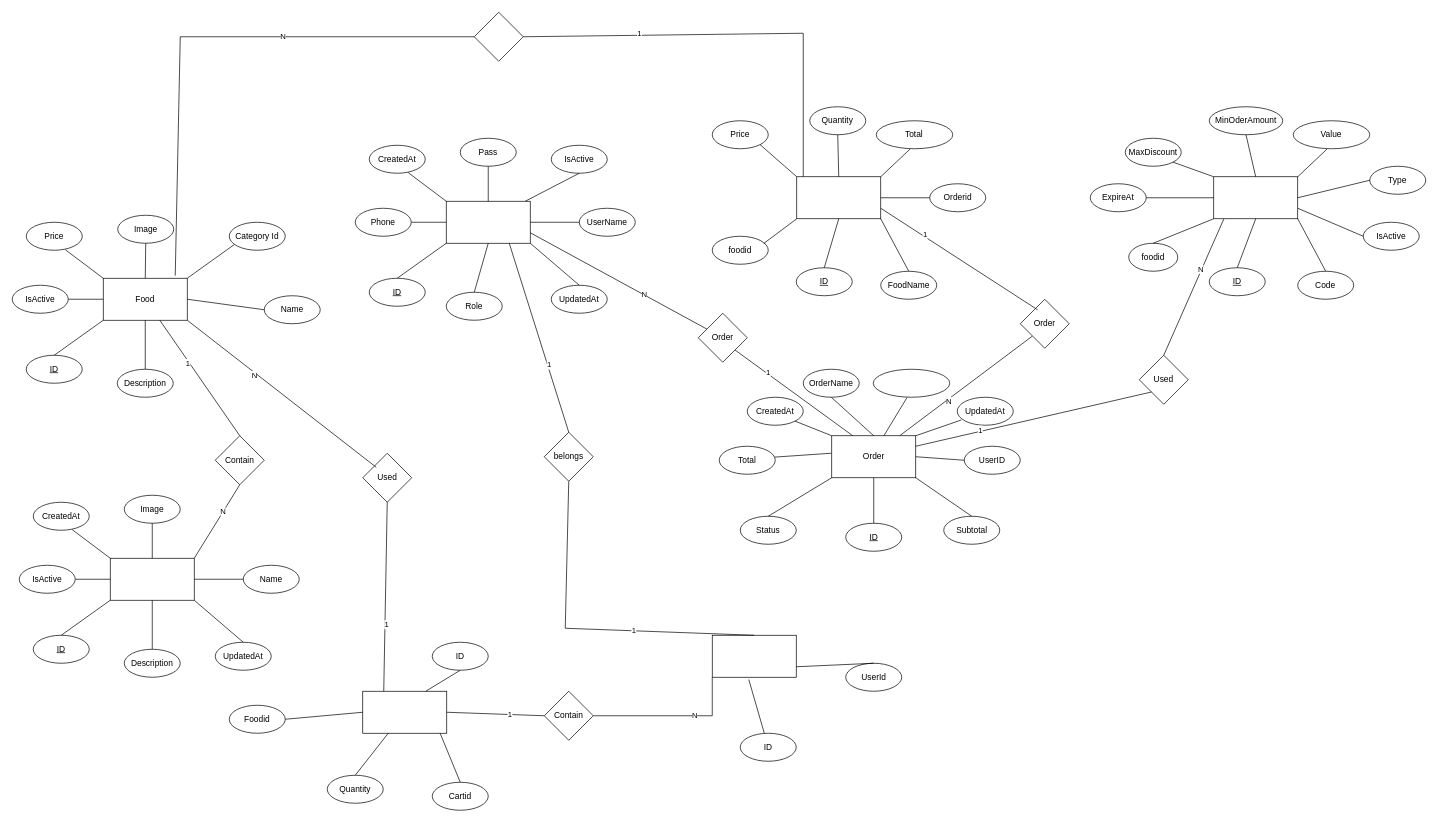
Some shapes in this 1439 by 823 pixel diagram are drawn without their labels. Here are the shapes that lost their labels. From the top down, the centre of each, then its label:
At point (498, 36): "Show".
At point (838, 197): "OrderItem".
At point (1255, 197): "H.Discount".
At point (488, 222): "User".
At point (911, 383): "DiscountAmount".
At point (152, 579): "Category".
At point (754, 656): "Cart".
At point (404, 712): "ItemCard".
